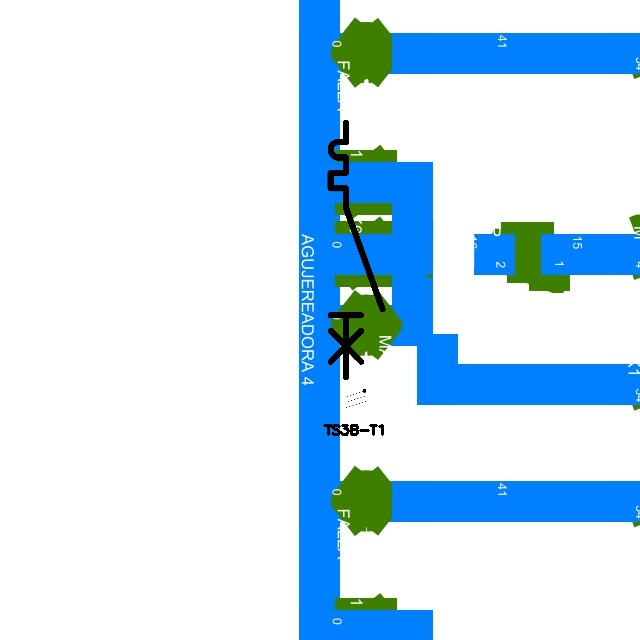interruptor_termomagnetico: (324, 116, 389, 384)
